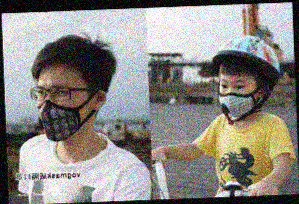with_mask: (33, 79, 93, 143), (216, 76, 257, 120)
